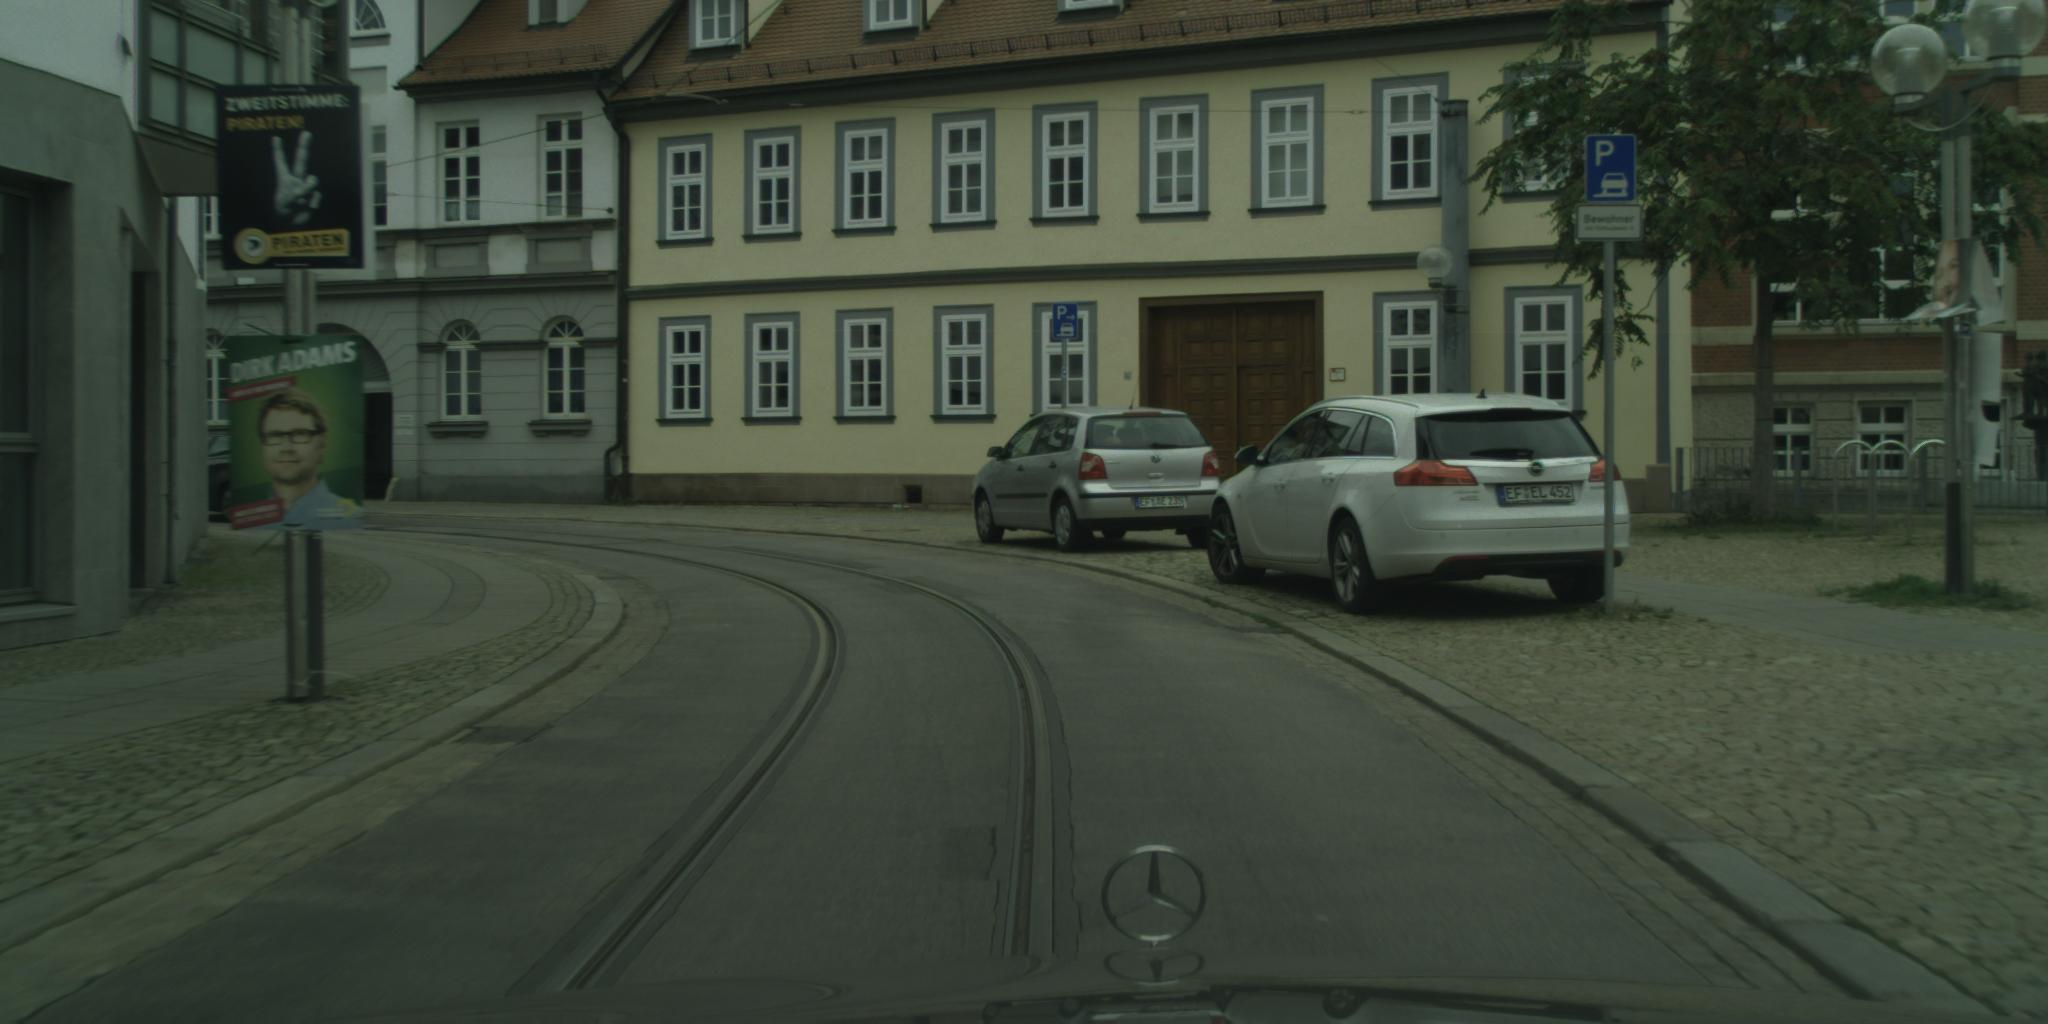car: (1208, 388, 1633, 618), (972, 408, 1224, 556), (209, 436, 249, 524)
